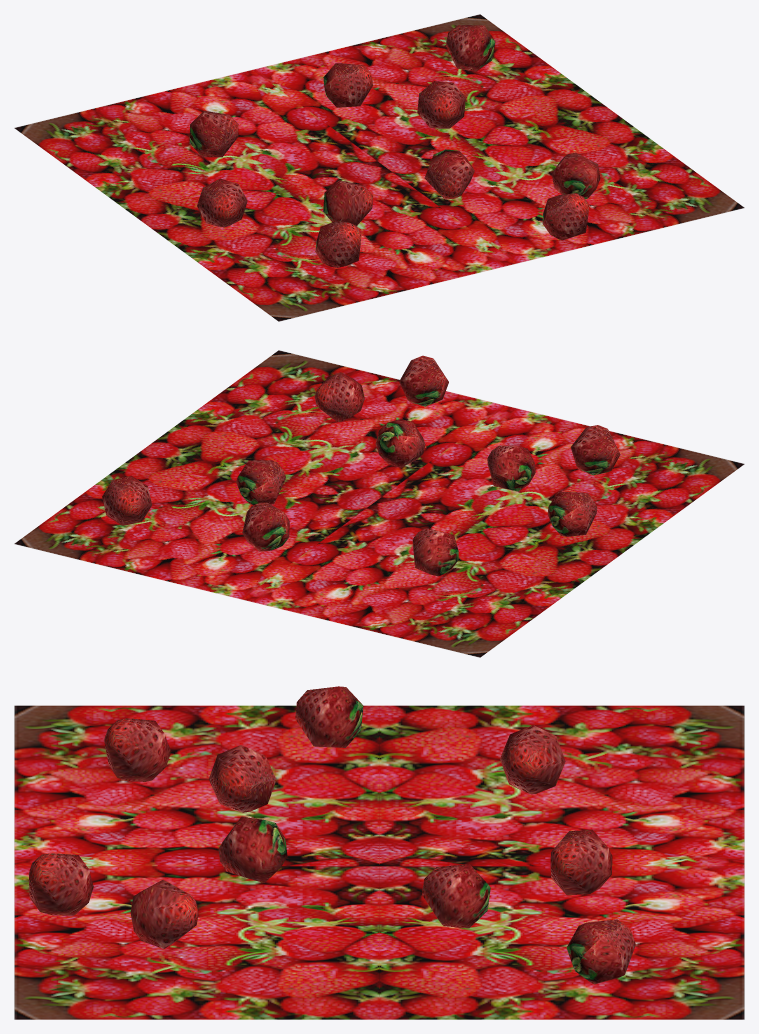
The model's file is strawberry.FBX.
3 renders of one model, top to bottom at view 1: azimuth 30°, elevation 25°; view 2: azimuth 150°, elevation 25°; view 3: azimuth 270°, elevation 25°, orthographic. The views are drawn at different scales.
Parts seen in each view (by area): view 1: strawburry; view 2: strawburry; view 3: strawburry.
Boxes of the visible parts, x1,y1,x2,y2 form: strawburry: [14, 14, 744, 321]; strawburry: [14, 350, 744, 657]; strawburry: [14, 686, 744, 1019].
Size of the model in its own units: 192 by 189 by 18.15.
